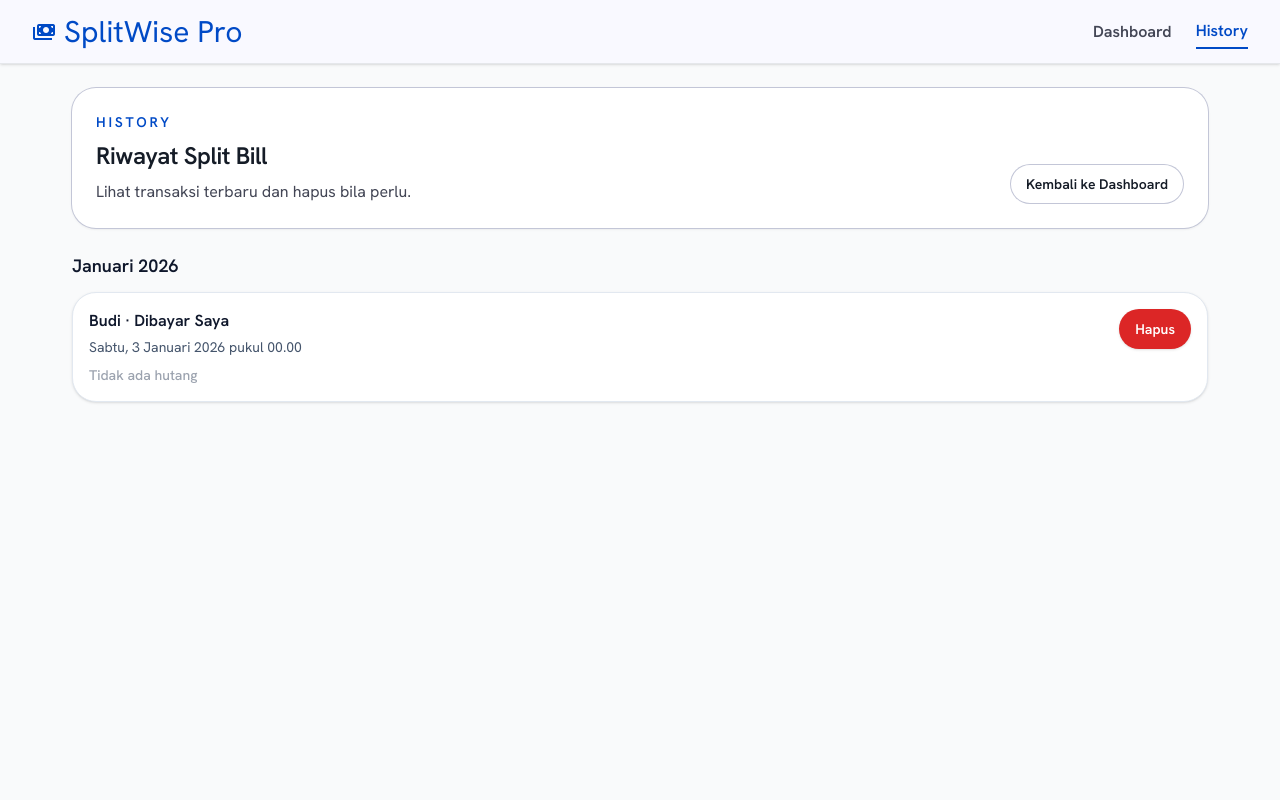
History integration › renders grouped history and deletes item with recalculation
Check: the heading "Budi · Dibayar Saya" is shown, box [89, 310, 229, 331]
Check: the text "Tidak ada hutang" is shown, box [89, 366, 197, 384]
Step 1. Click the button named "Hapus transaksi Budi" → (1155, 329), box [1119, 309, 1191, 349]
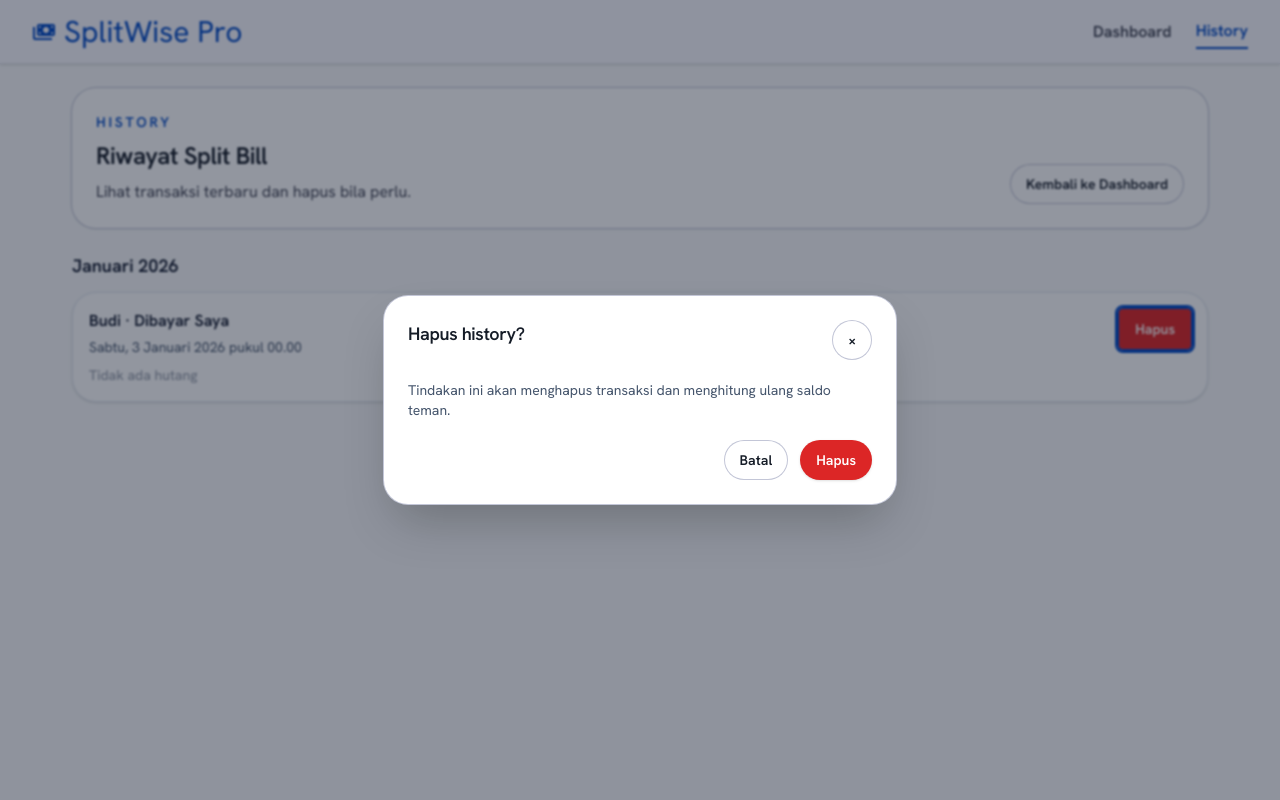
Check: the heading "Hapus history?" is shown, box [408, 320, 525, 348]
Step 2. Click the button "Hapus" → (836, 460), box [800, 440, 872, 480]
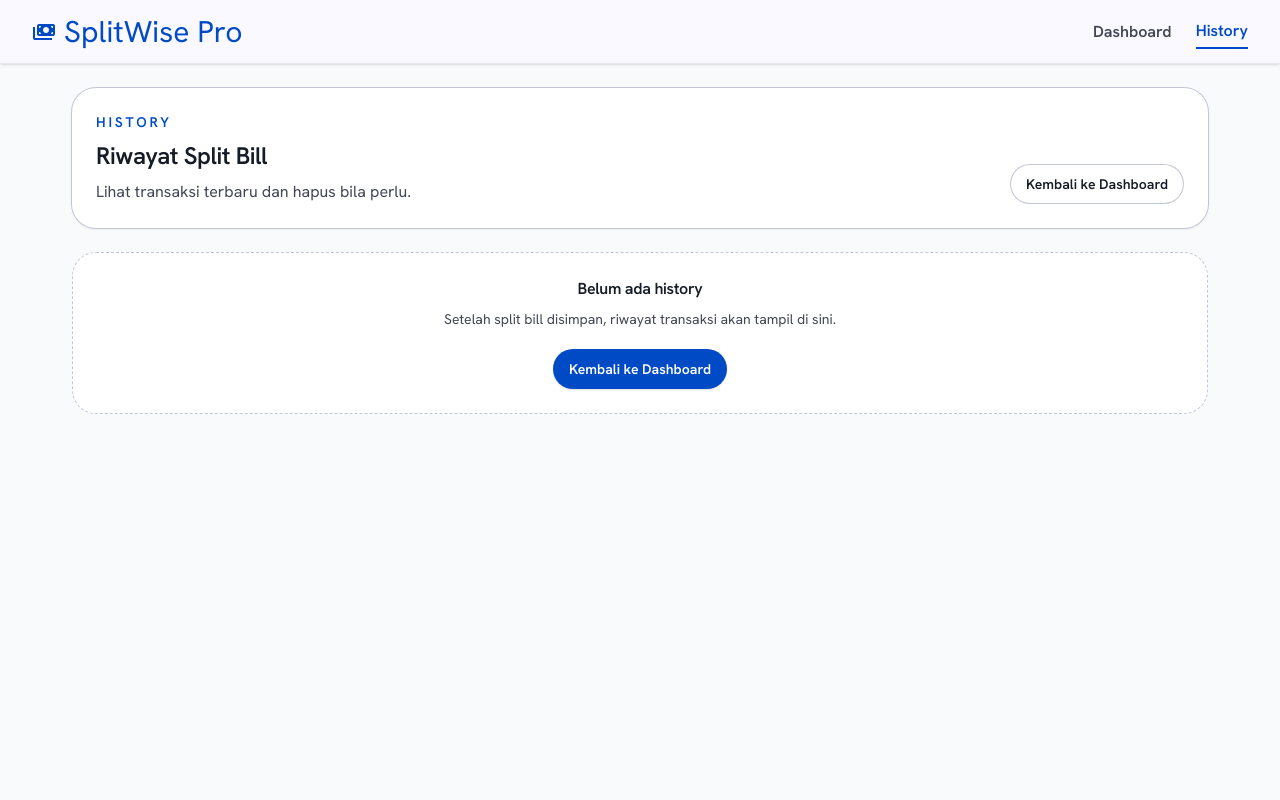
Check: the heading "Belum ada history" is shown, box [578, 278, 702, 299]
